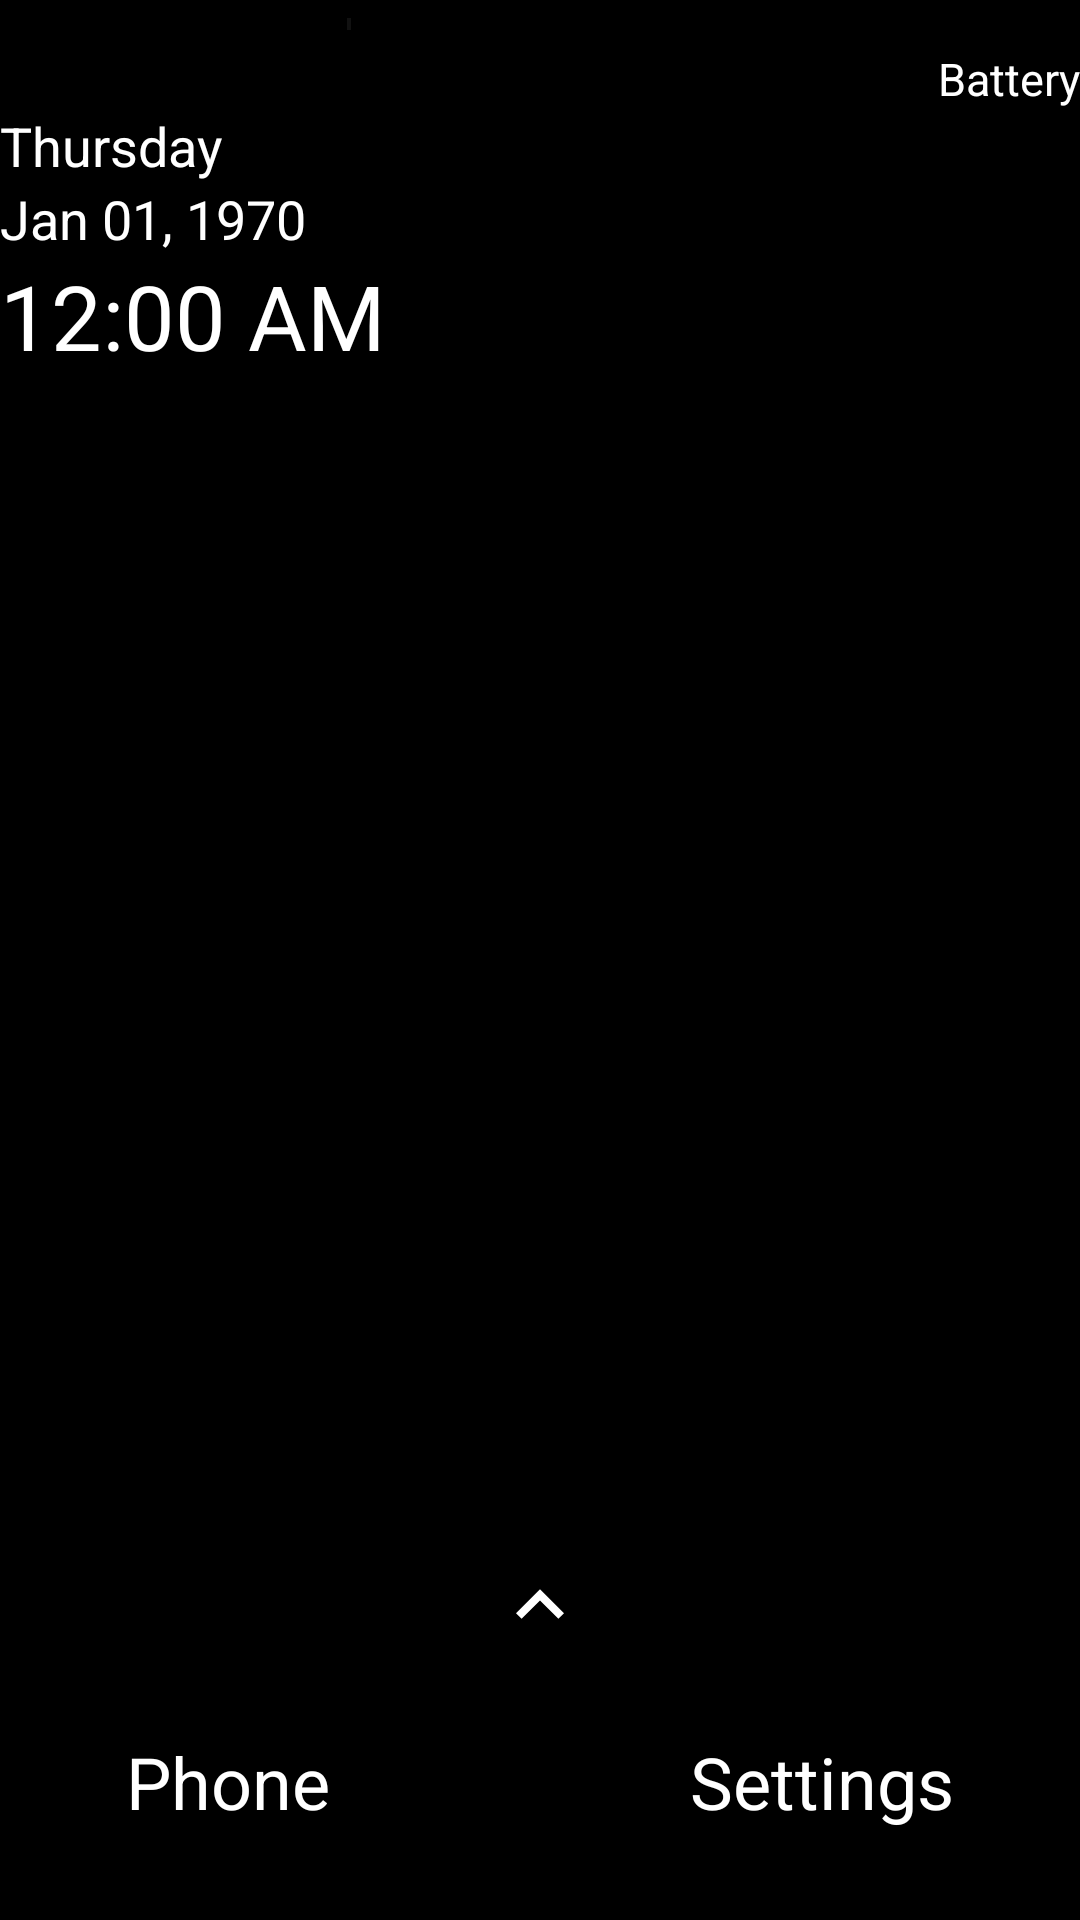

Screen size 1080 × 1920. Icon name, then its center in pixels as (x=x, y=y):
expand arrow: (x=540, y=1604)
